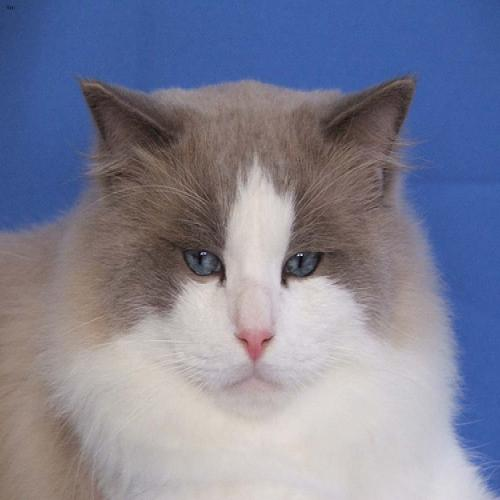ragdoll: (73, 51, 420, 423)
